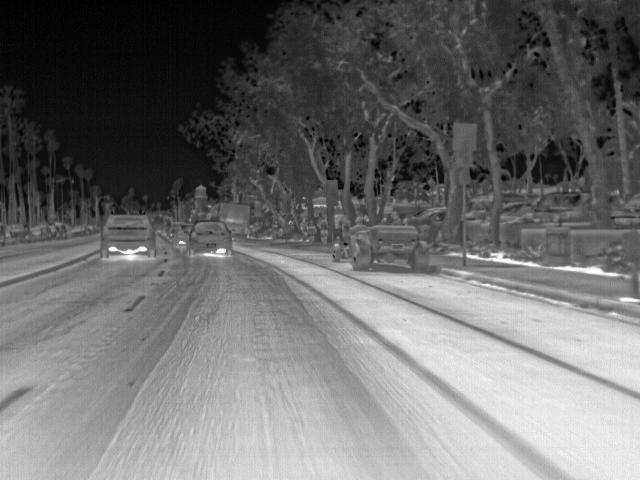car: (100, 211, 158, 255), (185, 220, 232, 254), (4, 222, 32, 243), (70, 223, 91, 238)
person: (349, 214, 368, 228)
